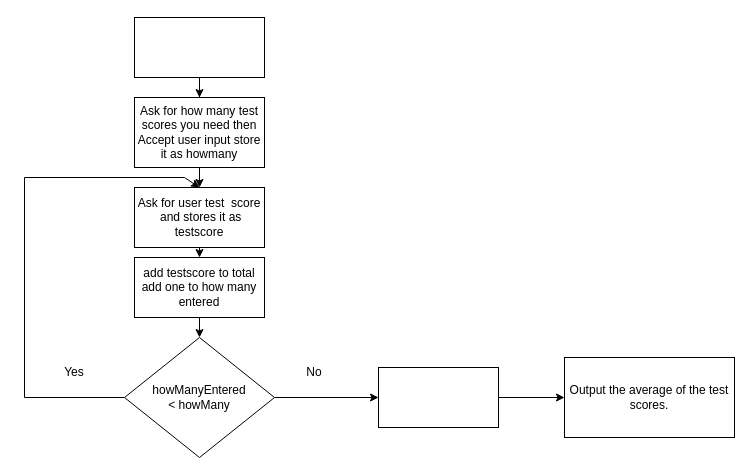
This 752x475 diagram has some shape labels left out. Each missing label, with the box of its shape:
Compute average = total/howmany: (378, 366, 498, 428)
Set total, average, and howmanyentered to zero: (134, 16, 264, 78)
